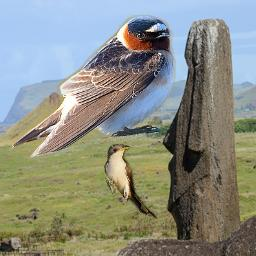Cuckoo: (104, 144, 158, 222)
Swallow: (10, 15, 176, 163)
